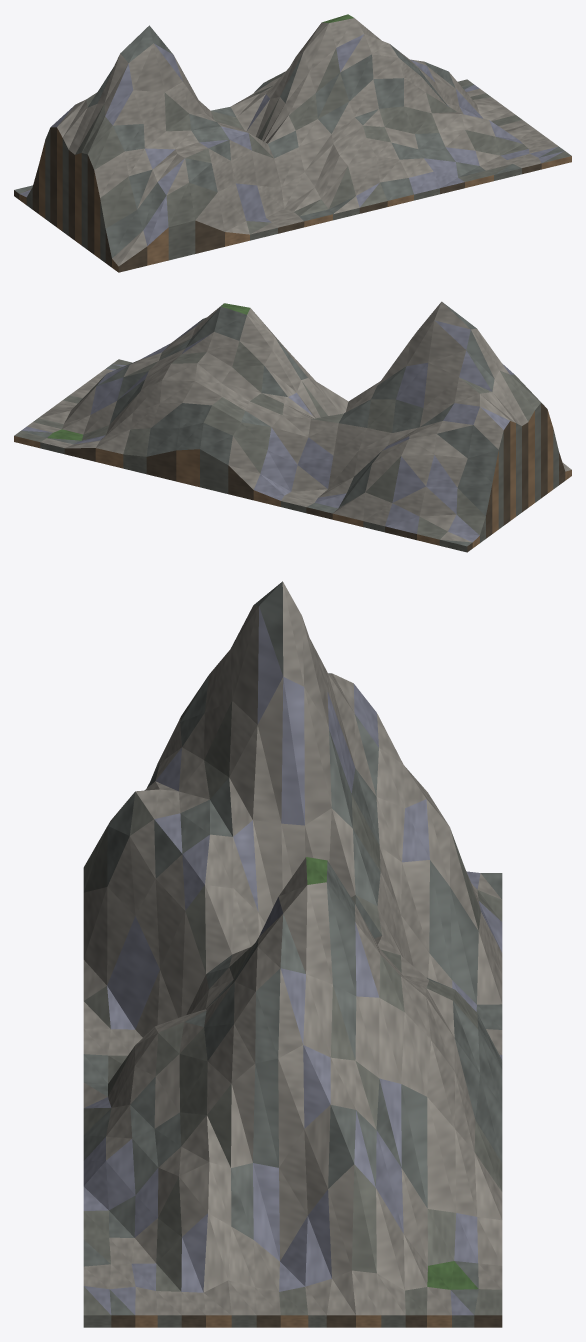
Rendered from mountain_far_04.fbx.
3 views of the same model, one above another, from view 1: azimuth 30°, elevation 25°; view 2: azimuth 150°, elevation 25°; view 3: azimuth 270°, elevation 25° (orthographic). The views are drawn at different scales.
Parts seen in each view (by area): view 1: mountain_far_04; view 2: mountain_far_04; view 3: mountain_far_04.
Boxes of the visible parts, x1,y1,x2,y2 form: mountain_far_04: [14, 14, 571, 272]; mountain_far_04: [14, 301, 571, 552]; mountain_far_04: [83, 581, 502, 1327].
Size of the model in its own units: 15000 by 6050 by 6000.
Materials: 1 (1 with a texture image).
